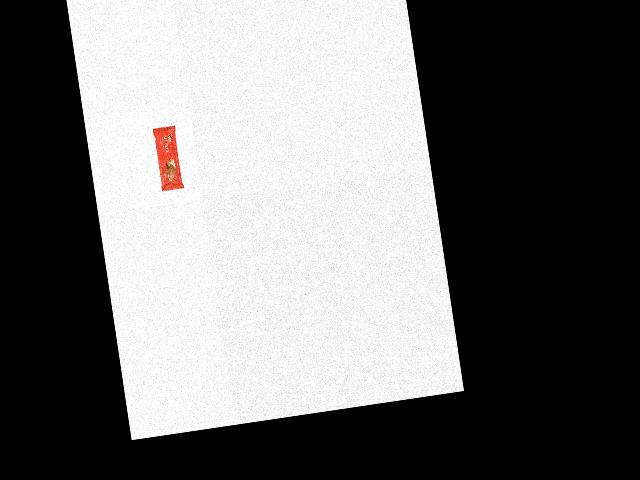chocolate: (151, 122, 183, 191)
